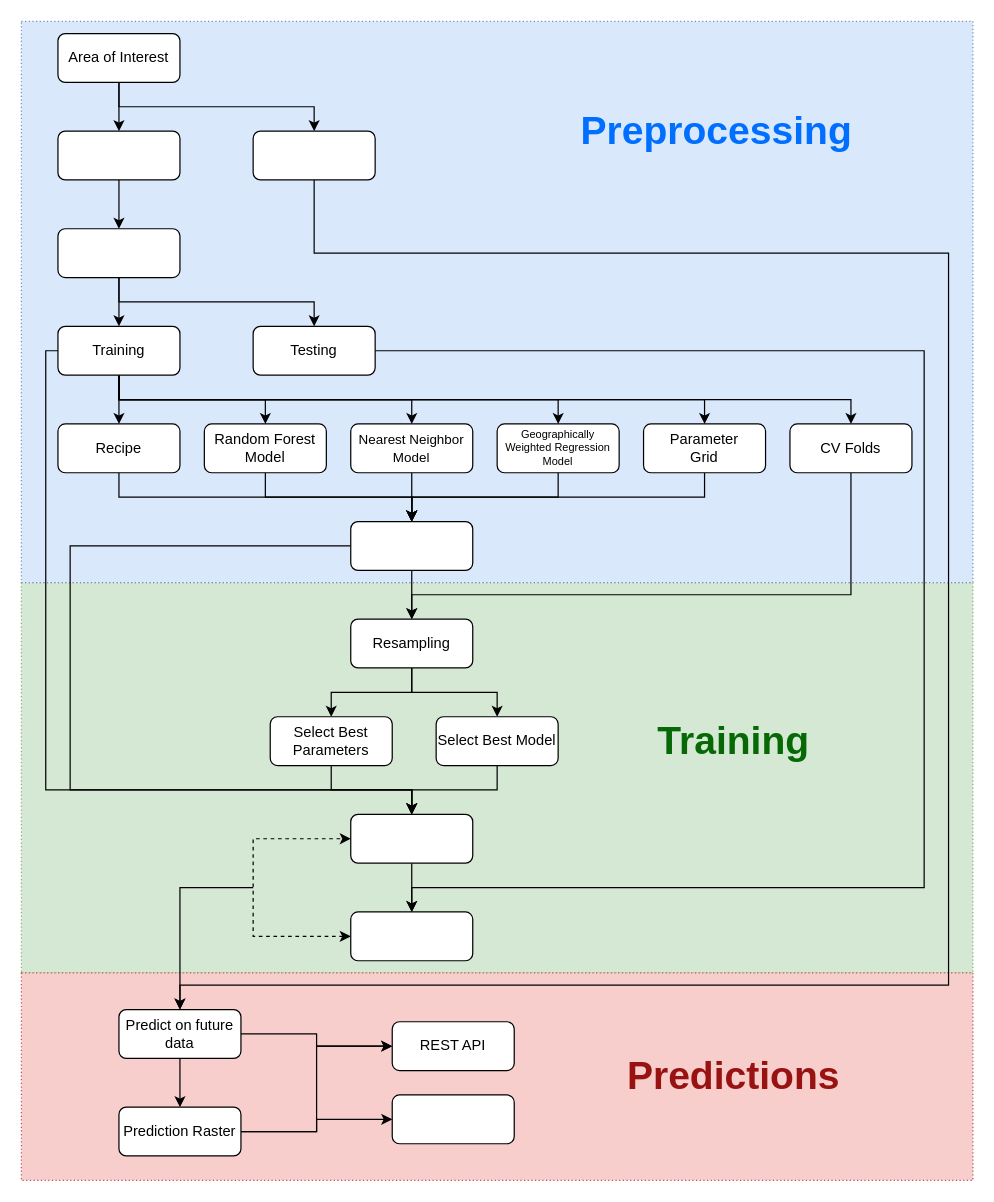
Some shapes in this 994 by 1202 pixel diagram are drawn without their labels. Each missing label, with the centre of its shape:
Fitted Model: point 411,838
GridMET Data: point 118,155
Initial Split: point 118,253
MACA Data: point 313,155
Shiny App: point 452,1119
Validation: point 411,936
Workflow Set: point 411,545
